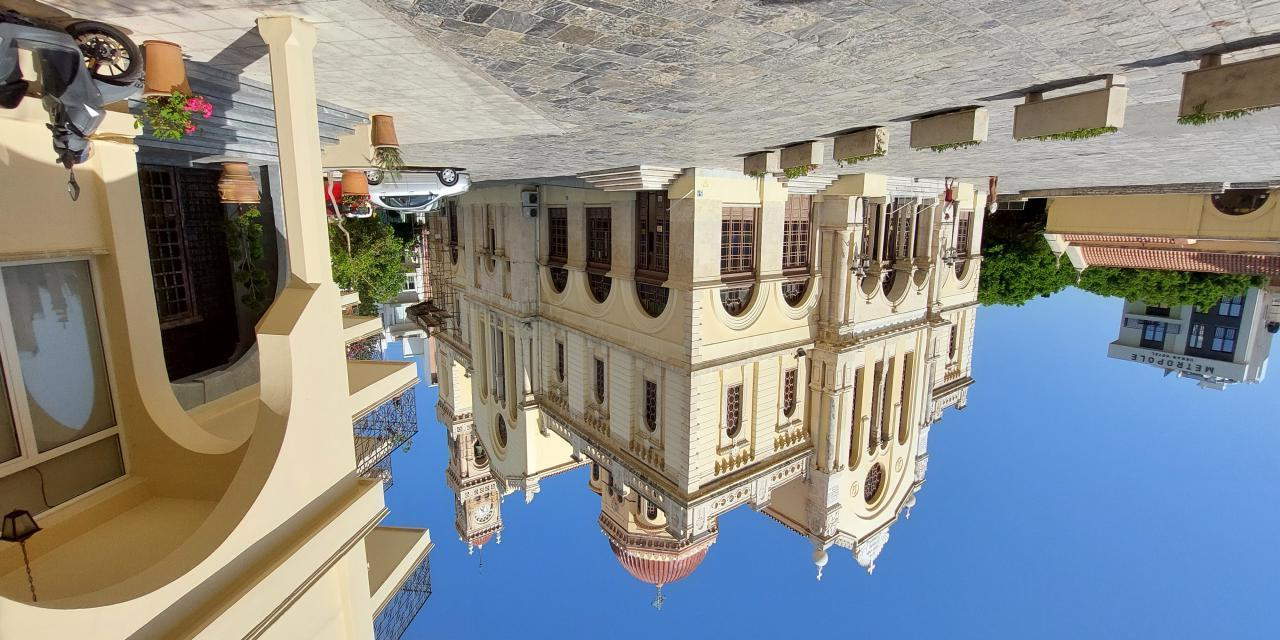Agios Minas: (434, 158, 991, 589)
